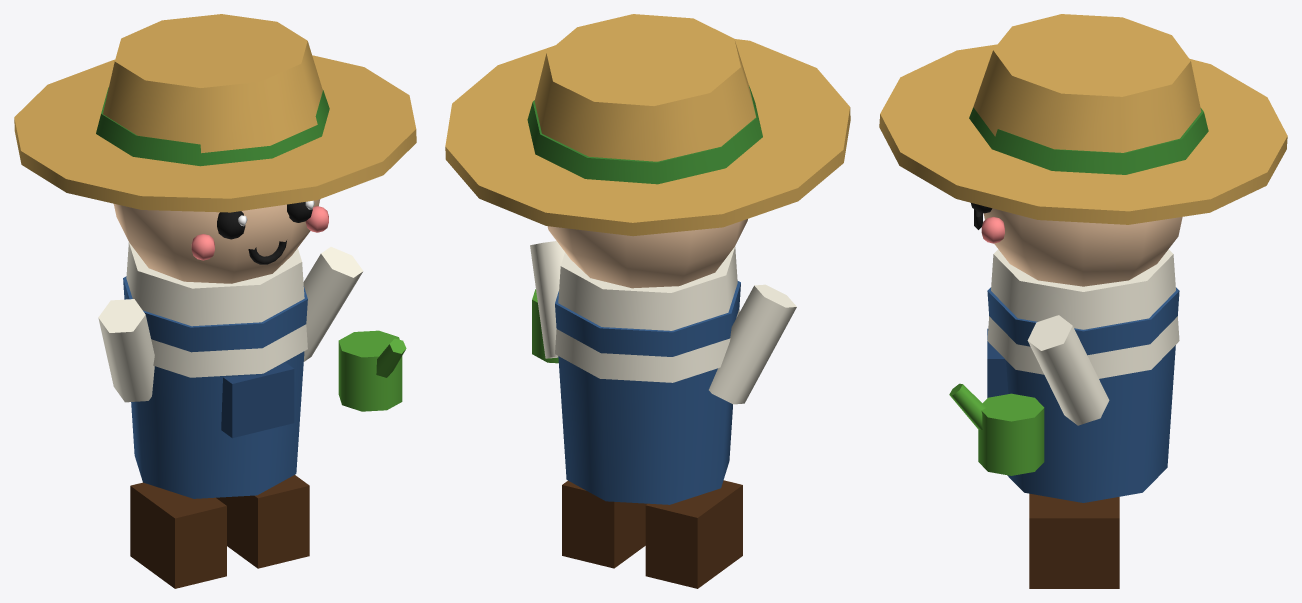
Rendered from player.glb.
The picture shows the model from 3 angles, left to right: view 1: azimuth 30°, elevation 25°; view 2: azimuth 150°, elevation 25°; view 3: azimuth 270°, elevation 25°; orthographic projection.
Parts seen in each view (by area): view 1: Player; view 2: Player; view 3: Player.
Boxes of the visible parts, x1=… form: Player: x1=14, y1=14, x2=416, y2=588; Player: x1=445, y1=14, x2=850, y2=588; Player: x1=879, y1=14, x2=1287, y2=588.
Size of the model in its own units: 1.33 by 1.86 by 1.36.
